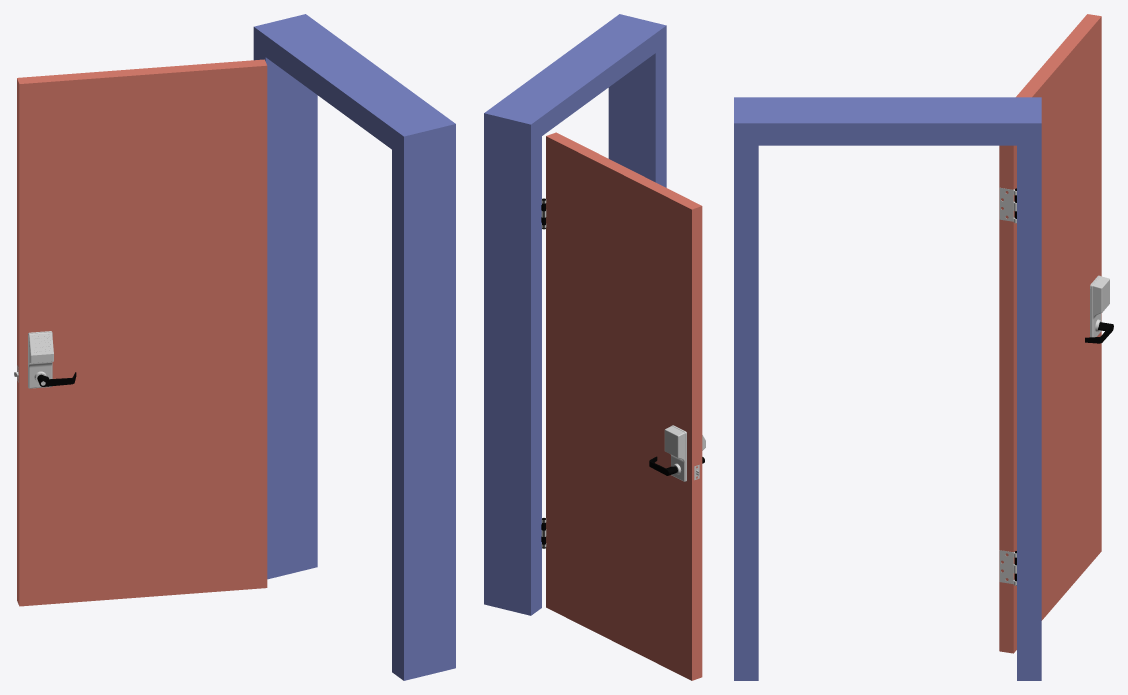
File: porte.gltf
The picture shows the model from 3 angles, left to right: view 1: azimuth 30°, elevation 25°; view 2: azimuth 150°, elevation 25°; view 3: azimuth 270°, elevation 25°; orthographic projection. The views are drawn at different scales.
Parts seen in each view (by area): view 1: Body1.016, Body1.015, Body68.001; view 2: Body1.016, Body1.015, Body68.001; view 3: Body1.015, Body1.016, Body68.001.
Part boxes in pixels (x1,y1,x2,y2): Body1.016: (17,59,267,606); Body1.015: (253,14,455,680); Body68.001: (28,331,53,388); Body1.016: (546,132,702,680); Body1.015: (484,14,666,615); Body68.001: (664,425,705,481); Body1.015: (734,97,1041,680); Body1.016: (999,14,1101,653); Body68.001: (1090,275,1109,337).
Bounding box in the file's own units: 1.02 × 2 × 1.23.
